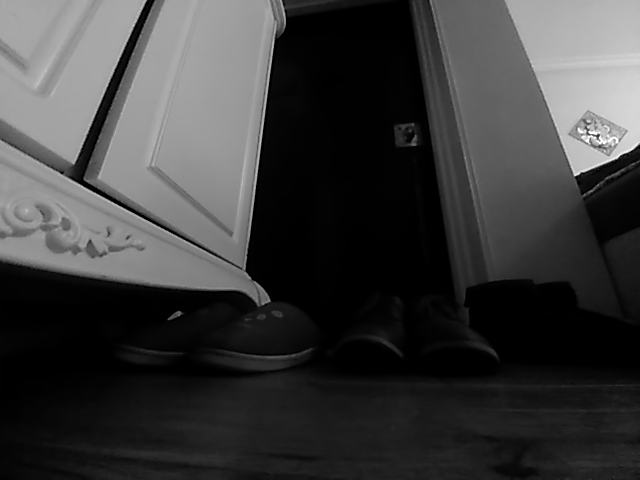shoe: (464, 277, 611, 368), (193, 301, 319, 373), (333, 292, 405, 369), (122, 301, 204, 365)
